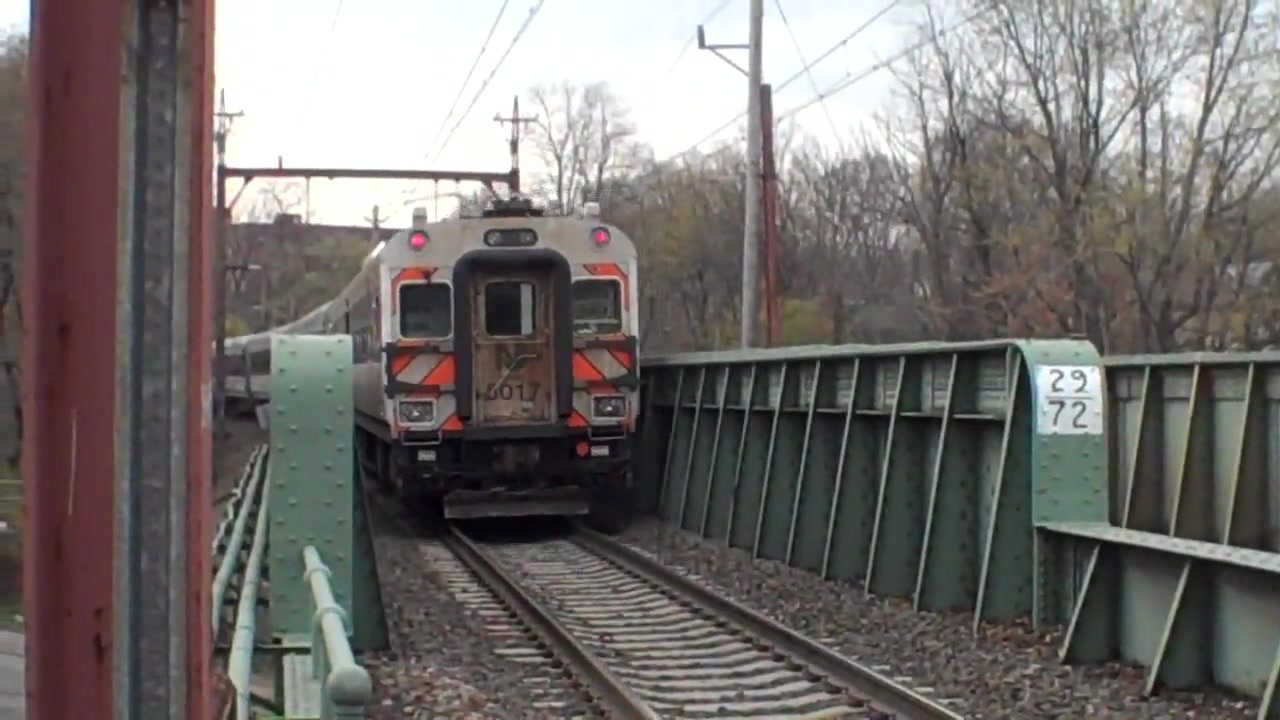train: (211, 191, 647, 528)
